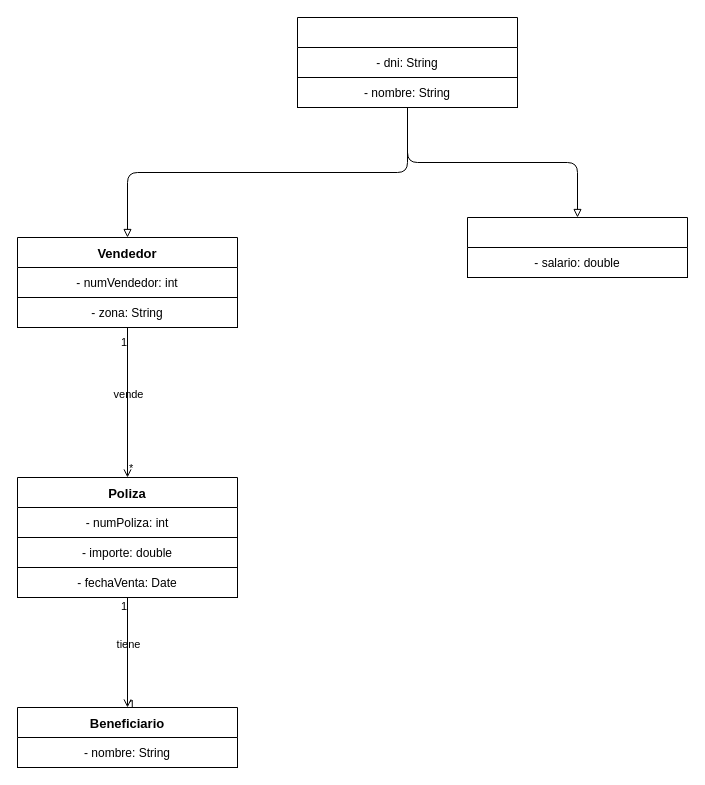
The diagram is 705 pixels wide and 785 high, and some of its shapes have lost their labels. Here are the shapes that lost their labels. From the top down, the box of each, then its label:
(296, 16, 518, 108): Empleado
(466, 216, 688, 278): Jefe
